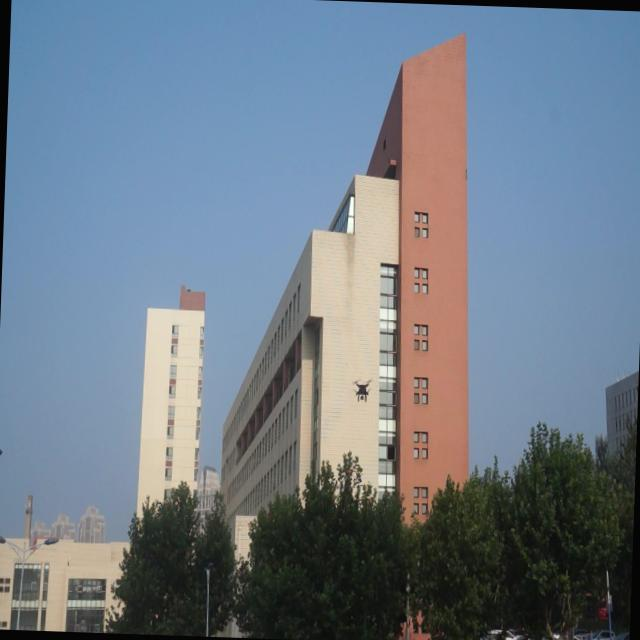drone: (353, 373, 371, 402)
